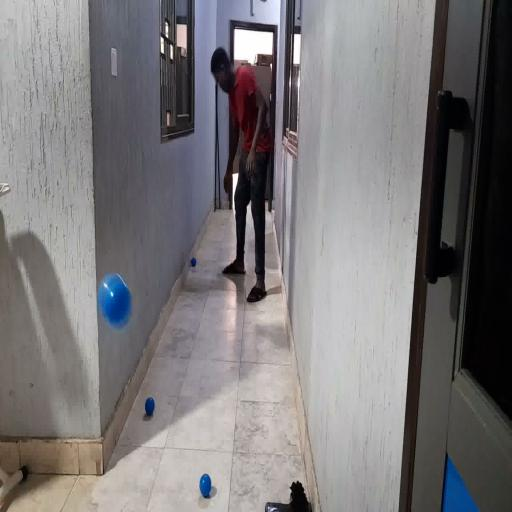plastic-ball: (98, 274, 132, 332)
